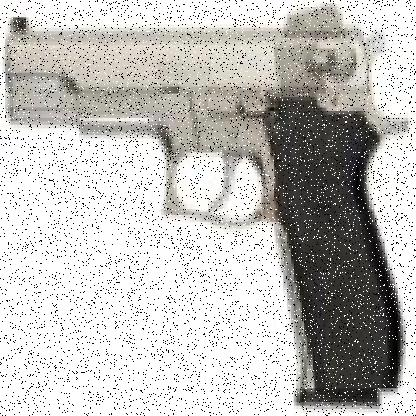pistol: (13, 10, 403, 402)
